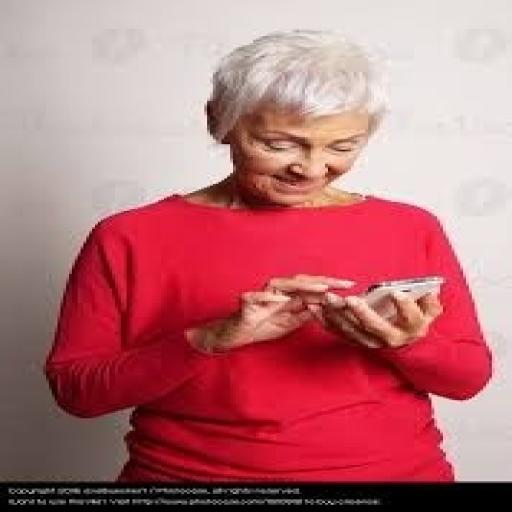texting: (40, 27, 495, 483)
